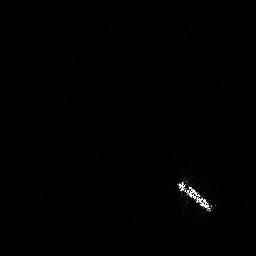ship: (175, 176, 217, 214)
